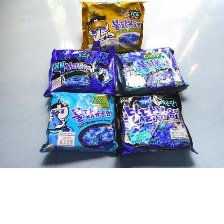snack: (109, 86, 202, 162), (34, 87, 120, 157), (109, 42, 193, 102), (39, 42, 122, 99), (74, 0, 150, 56)
